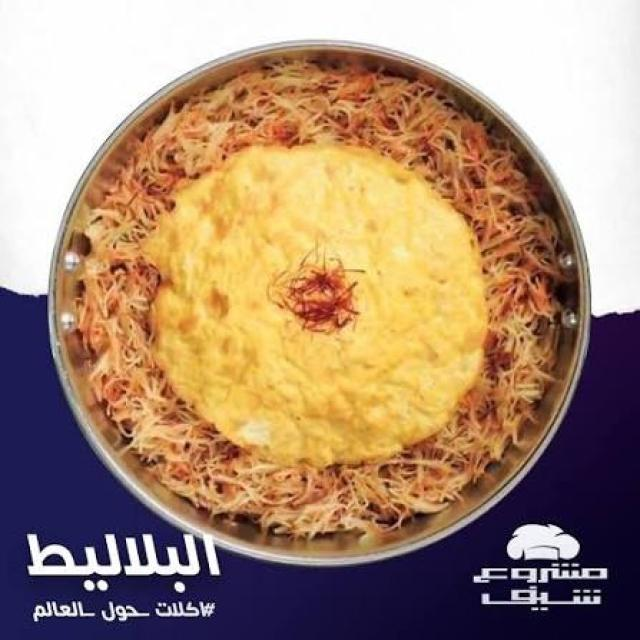Balaleet: (81, 62, 556, 508)
